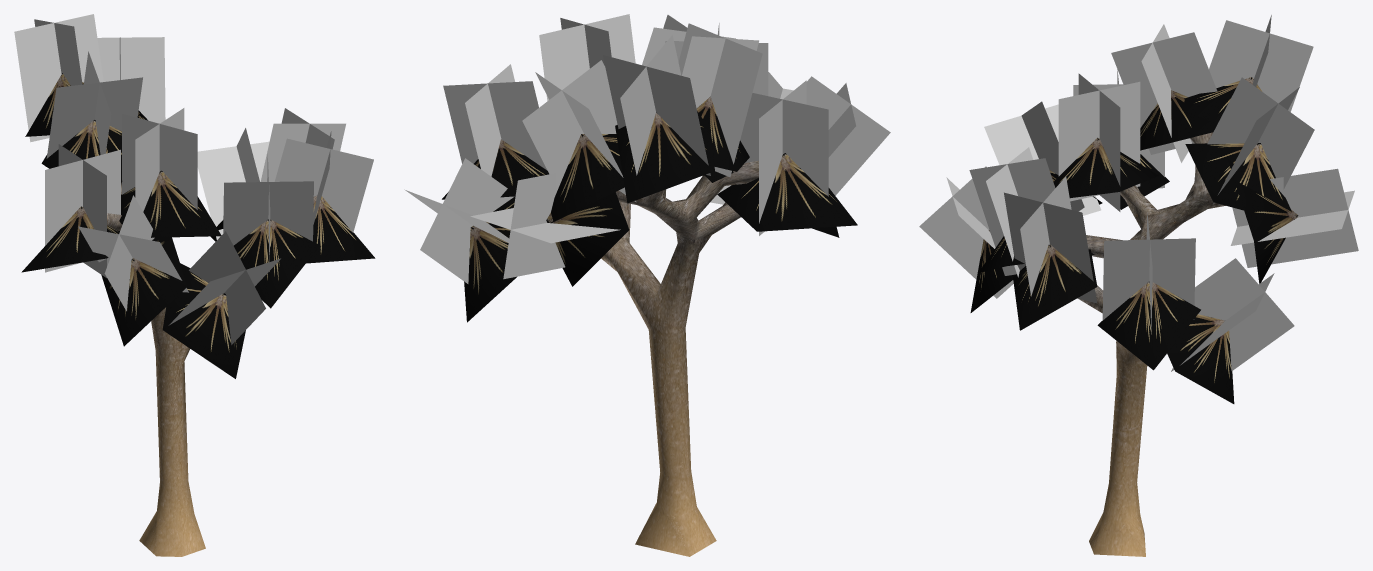
File: test_joshua.fbx
3 renders of one model, left to right at view 1: azimuth 30°, elevation 25°; view 2: azimuth 150°, elevation 25°; view 3: azimuth 270°, elevation 25°, orthographic. The views are drawn at different scales.
Visible parts, largest first — view 1: Plane; view 2: Plane; view 3: Plane.
Boxes of the visible parts, <box> form: Plane: <box>14,14,375,556</box>; Plane: <box>404,14,890,556</box>; Plane: <box>919,15,1358,556</box>.
Size of the model in its own units: 255 by 347 by 276.
